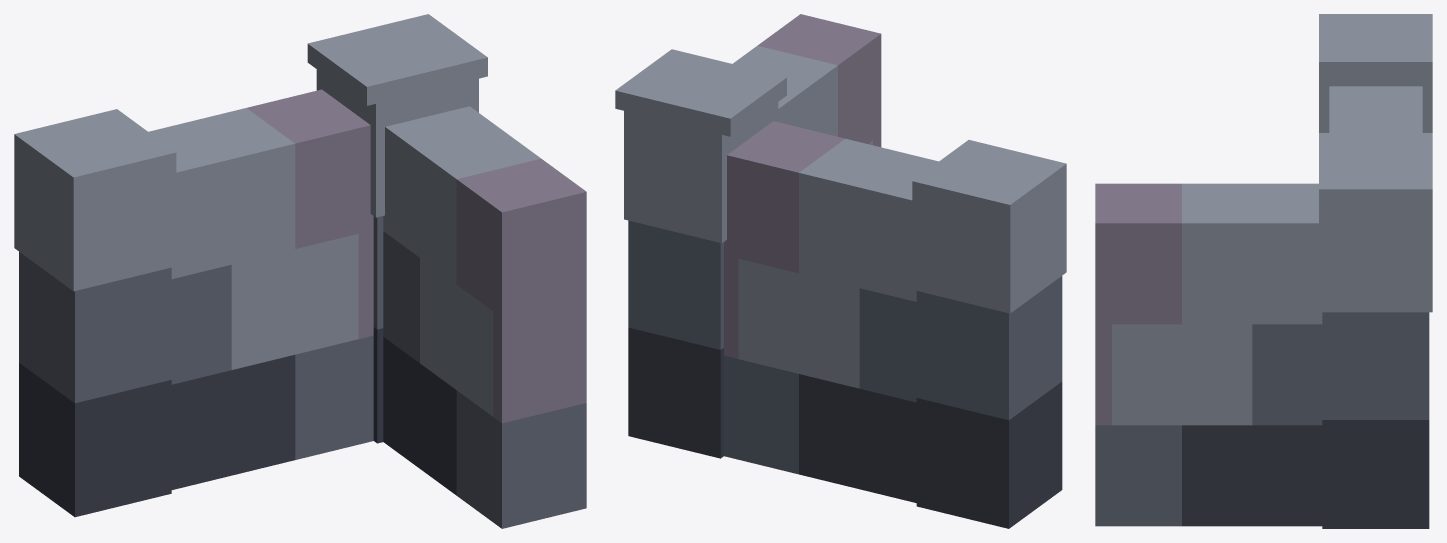
Rendered from TW_STONE_CORNER_R90_A_LOD0.glb.
3 renders of one model, left to right at view 1: azimuth 30°, elevation 25°; view 2: azimuth 150°, elevation 25°; view 3: azimuth 270°, elevation 25°, orthographic. The views are drawn at different scales.
Parts seen in each view (by area): view 1: TW_STONE_CORNER_R90_A_LOD0; view 2: TW_STONE_CORNER_R90_A_LOD0; view 3: TW_STONE_CORNER_R90_A_LOD0.
Part boxes in pixels (x1,y1,x2,y2): TW_STONE_CORNER_R90_A_LOD0: [14, 14, 586, 528]; TW_STONE_CORNER_R90_A_LOD0: [615, 14, 1066, 528]; TW_STONE_CORNER_R90_A_LOD0: [1095, 14, 1432, 528].
Size of the model in its own units: 1.37 by 1.14 by 1.01.
Materials: 1 (1 with a texture image).
